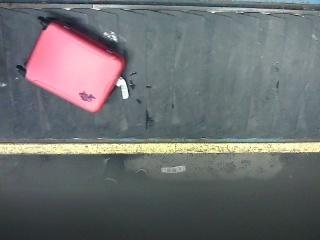Suitcase: (22, 14, 128, 112)
